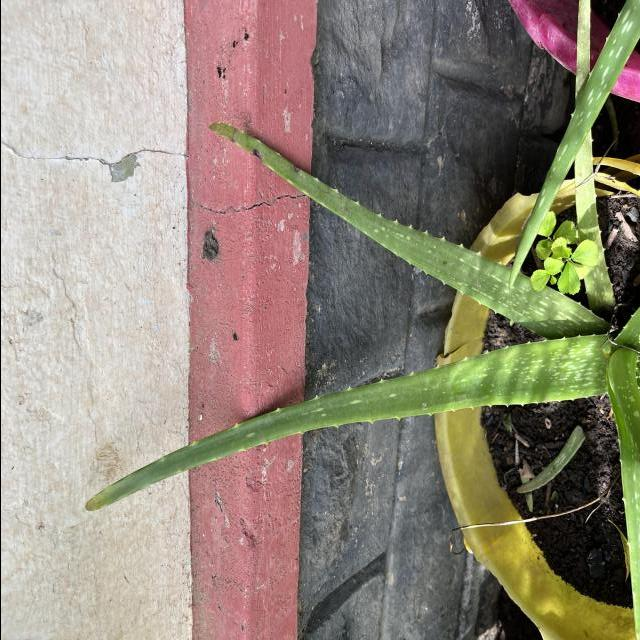Aloe vera: (80, 328, 614, 520), (202, 116, 582, 338)
